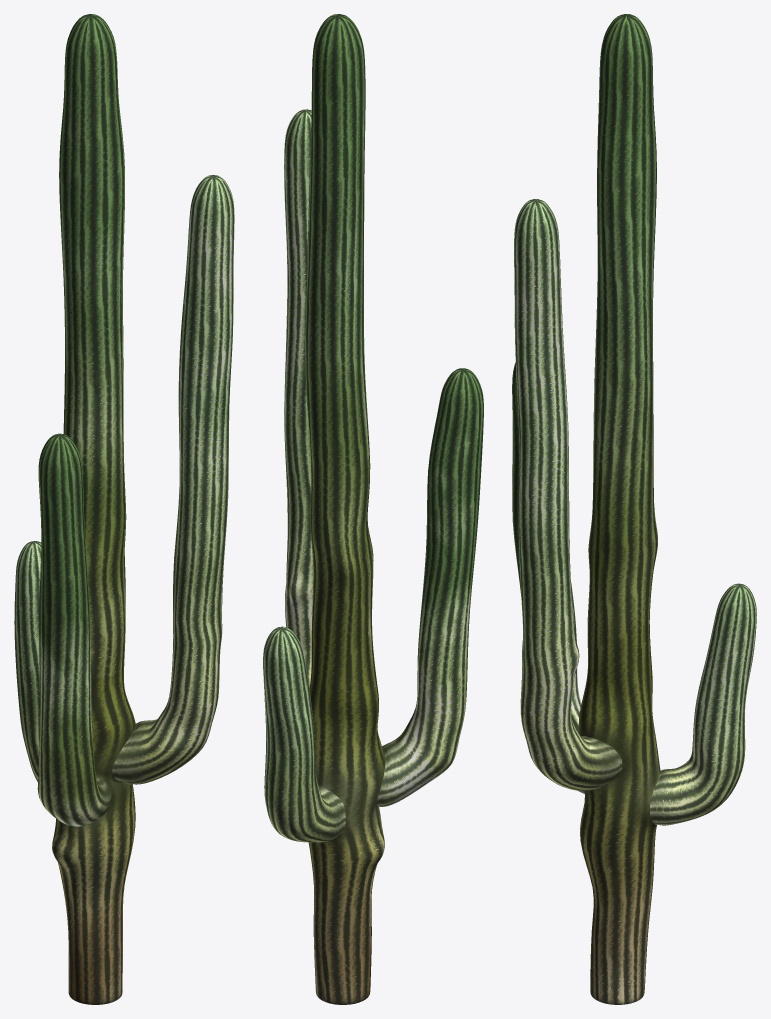
The model's file is Cactus1.obj.
3 views of the same model, side by side, from view 1: azimuth 30°, elevation 25°; view 2: azimuth 150°, elevation 25°; view 3: azimuth 270°, elevation 25° (orthographic).
Visible parts, largest first — view 1: 10436_Cactus_v1; view 2: 10436_Cactus_v1; view 3: 10436_Cactus_v1.
Boxes of the visible parts, x1,y1,x2,y2 form: 10436_Cactus_v1: (14, 14, 234, 1004); 10436_Cactus_v1: (263, 14, 483, 1004); 10436_Cactus_v1: (512, 14, 756, 1004).
Size of the model in its own units: 51.26 by 250 by 56.59.
